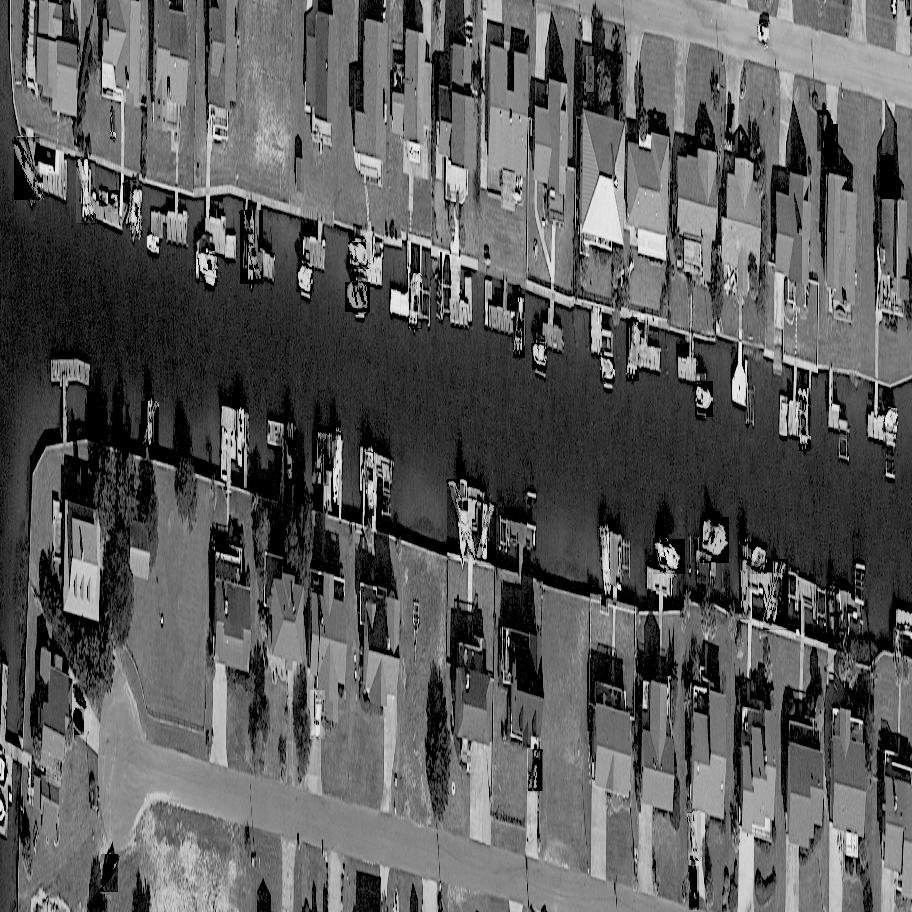ship: (448, 478, 481, 559), (9, 137, 46, 197), (762, 560, 790, 630), (240, 209, 264, 284), (698, 517, 731, 563), (654, 534, 686, 579), (476, 503, 497, 565), (76, 159, 96, 224), (598, 526, 614, 597), (312, 430, 330, 487), (626, 317, 641, 381), (740, 542, 752, 619), (346, 279, 371, 314), (141, 402, 160, 448), (408, 274, 423, 329), (514, 295, 527, 358), (129, 181, 143, 239), (687, 812, 703, 861), (827, 583, 840, 641), (799, 388, 811, 450), (333, 432, 343, 505), (284, 420, 295, 484), (348, 239, 370, 271), (695, 381, 714, 417), (748, 542, 769, 574), (198, 252, 219, 283), (365, 452, 375, 514), (295, 263, 314, 292), (236, 408, 245, 468), (882, 408, 899, 438), (533, 343, 547, 370), (600, 358, 614, 382), (107, 190, 121, 212), (148, 232, 157, 254), (100, 187, 106, 206), (111, 111, 114, 139)
small-vehicle: (96, 855, 125, 893), (311, 690, 326, 740), (528, 749, 544, 791), (824, 125, 840, 167), (880, 154, 894, 199), (818, 110, 832, 152), (689, 865, 700, 911), (724, 104, 735, 145), (74, 684, 87, 711), (758, 23, 772, 47), (587, 57, 596, 93), (74, 711, 84, 735)
